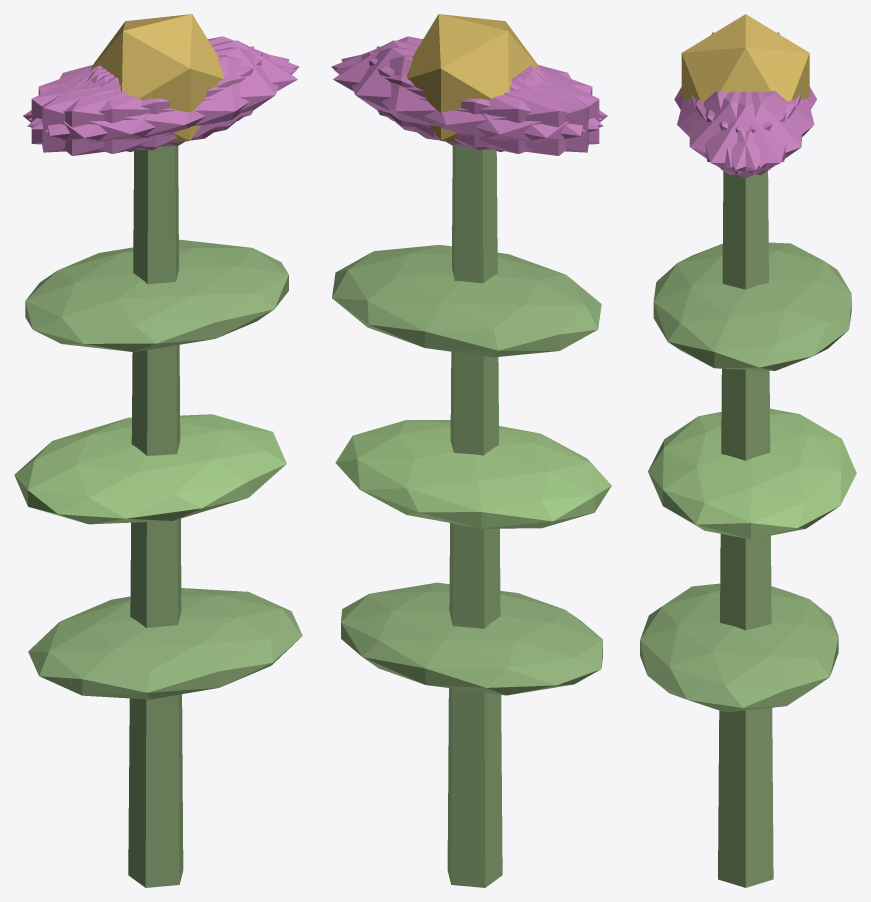
File: phyllanthus-acidus.glb
3 views of the same model, side by side, from view 1: azimuth 30°, elevation 25°; view 2: azimuth 150°, elevation 25°; view 3: azimuth 270°, elevation 25° (orthographic).
Parts seen in each view (by area): view 1: stem, leaf0, leaf1, leaf2, center, petal1, petal6, petal2, petal5, petal7, petal0, petal4 (+2 smaller); view 2: stem, leaf2, leaf1, leaf0, center, petal8, petal3, petal7, petal4, petal2, petal0, petal5 (+2 smaller); view 3: stem, leaf2, leaf1, leaf0, center, petal0, petal5, petal4, petal1, petal8.
Boxes of the visible parts, bbox=[...] form: stem: bbox=[128, 146, 183, 887]; leaf0: bbox=[28, 588, 302, 699]; leaf1: bbox=[14, 414, 286, 524]; leaf2: bbox=[25, 239, 288, 352]; center: bbox=[91, 14, 223, 142]; petal1: bbox=[27, 55, 296, 153]; petal6: bbox=[23, 67, 218, 155]; petal2: bbox=[42, 46, 254, 152]; petal5: bbox=[45, 47, 289, 147]; petal7: bbox=[31, 52, 262, 150]; petal0: bbox=[91, 40, 297, 137]; petal4: bbox=[28, 36, 299, 129]; stem: bbox=[447, 146, 502, 887]; leaf2: bbox=[332, 245, 601, 357]; leaf1: bbox=[335, 420, 611, 528]; leaf0: bbox=[341, 582, 602, 695]; center: bbox=[407, 14, 539, 142]; petal8: bbox=[334, 55, 603, 153]; petal3: bbox=[412, 67, 607, 155]; petal7: bbox=[376, 46, 588, 152]; petal4: bbox=[341, 47, 585, 147]; petal2: bbox=[368, 52, 599, 150]; petal0: bbox=[333, 40, 539, 137]; petal5: bbox=[331, 36, 602, 129]; stem: bbox=[718, 170, 773, 887]; leaf2: bbox=[653, 242, 851, 370]; leaf1: bbox=[648, 408, 856, 539]; leaf0: bbox=[640, 583, 838, 712]; center: bbox=[681, 14, 809, 101]; petal0: bbox=[691, 91, 800, 178]; petal5: bbox=[689, 91, 795, 175]; petal4: bbox=[695, 91, 802, 174]; petal1: bbox=[677, 91, 786, 167]; petal8: bbox=[705, 91, 814, 167].
Size of the model in its own units: 0.1452 by 0.4461 by 0.1037.
